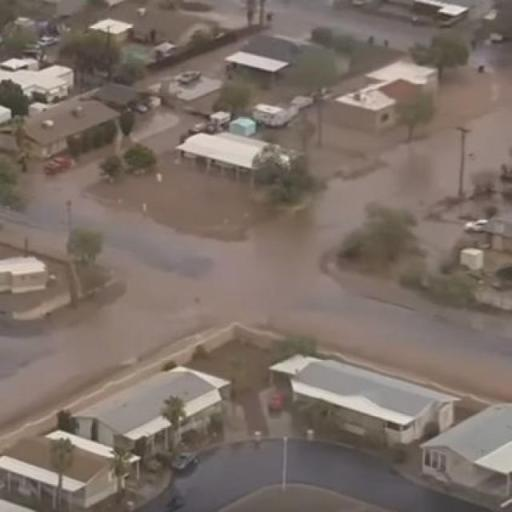flood: (0, 70, 512, 426)
house: (268, 348, 460, 459), (78, 361, 230, 472), (0, 423, 125, 512), (421, 398, 510, 512), (20, 99, 112, 168), (0, 254, 51, 294), (253, 102, 288, 128)
